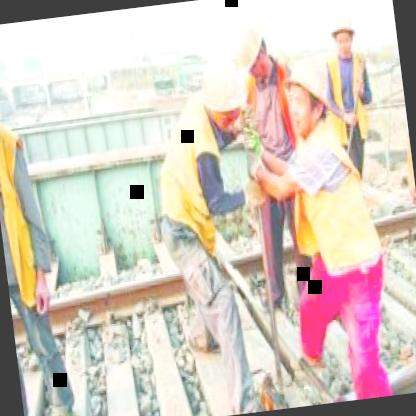helmet: (274, 44, 342, 144), (208, 8, 276, 88), (193, 50, 251, 138), (323, 6, 360, 62)
